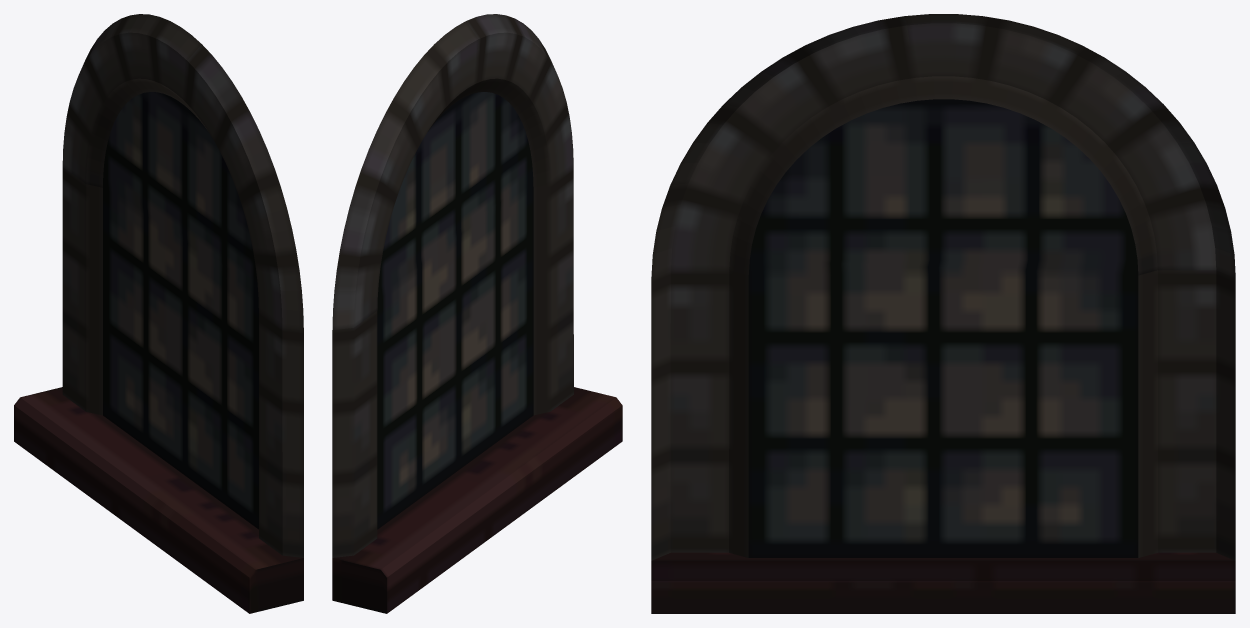
File: EnvBdgMD_City_A_Indoor_Bar_Window.FBX
The picture shows the model from 3 angles, left to right: view 1: azimuth 30°, elevation 25°; view 2: azimuth 150°, elevation 25°; view 3: azimuth 270°, elevation 25°; orthographic projection. The views are drawn at different scales.
Visible parts, largest first — view 1: EnvBdgMD_City_A_Indoor_Bar_Window; view 2: EnvBdgMD_City_A_Indoor_Bar_Window; view 3: EnvBdgMD_City_A_Indoor_Bar_Window.
Boxes of the visible parts, x1,y1,x2,y2 form: EnvBdgMD_City_A_Indoor_Bar_Window: (14, 14, 303, 613); EnvBdgMD_City_A_Indoor_Bar_Window: (332, 14, 622, 613); EnvBdgMD_City_A_Indoor_Bar_Window: (651, 14, 1235, 613).
Size of the model in its own units: 20 by 170 by 150.
